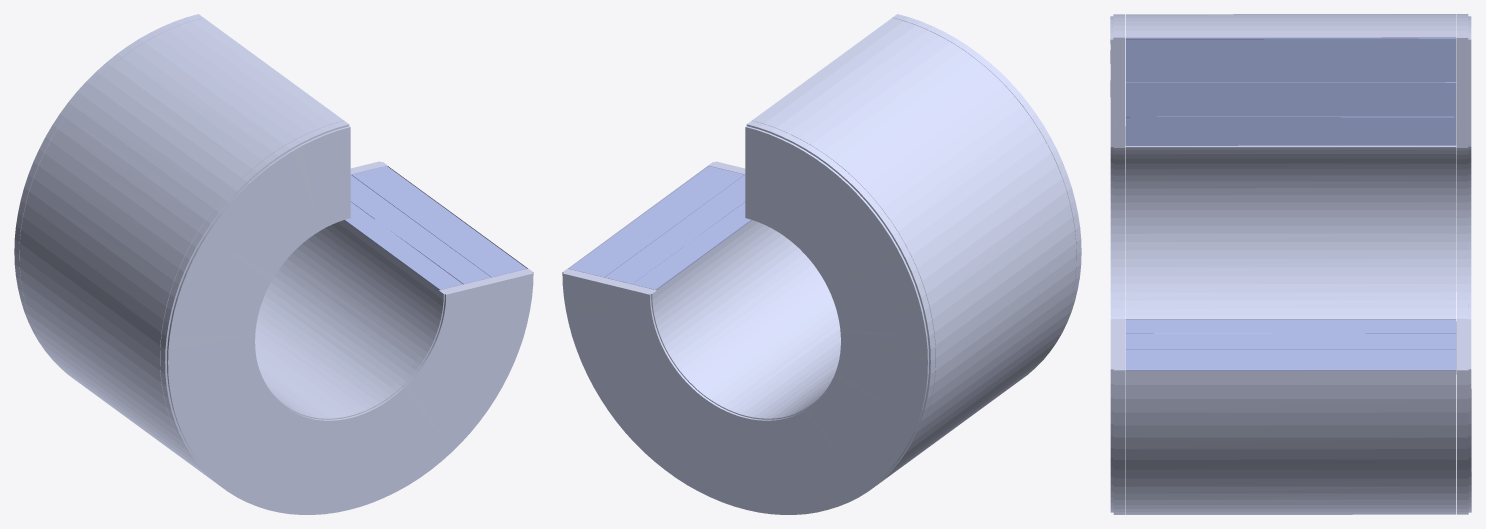
The model's file is TRT-BAR-cut3.glb.
3 renders of one model, left to right at view 1: azimuth 30°, elevation 25°; view 2: azimuth 150°, elevation 25°; view 3: azimuth 270°, elevation 25°, orthographic. The views are drawn at different scales.
Parts seen in each view (by area): view 1: null; view 2: null; view 3: null.
Boxes of the visible parts, x1=… form: null: x1=14, y1=14, x2=533, y2=514; null: x1=562, y1=14, x2=1081, y2=514; null: x1=1110, y1=14, x2=1471, y2=514.
Bounding box in the file's own units: 2.16 × 2.16 × 1.56.
